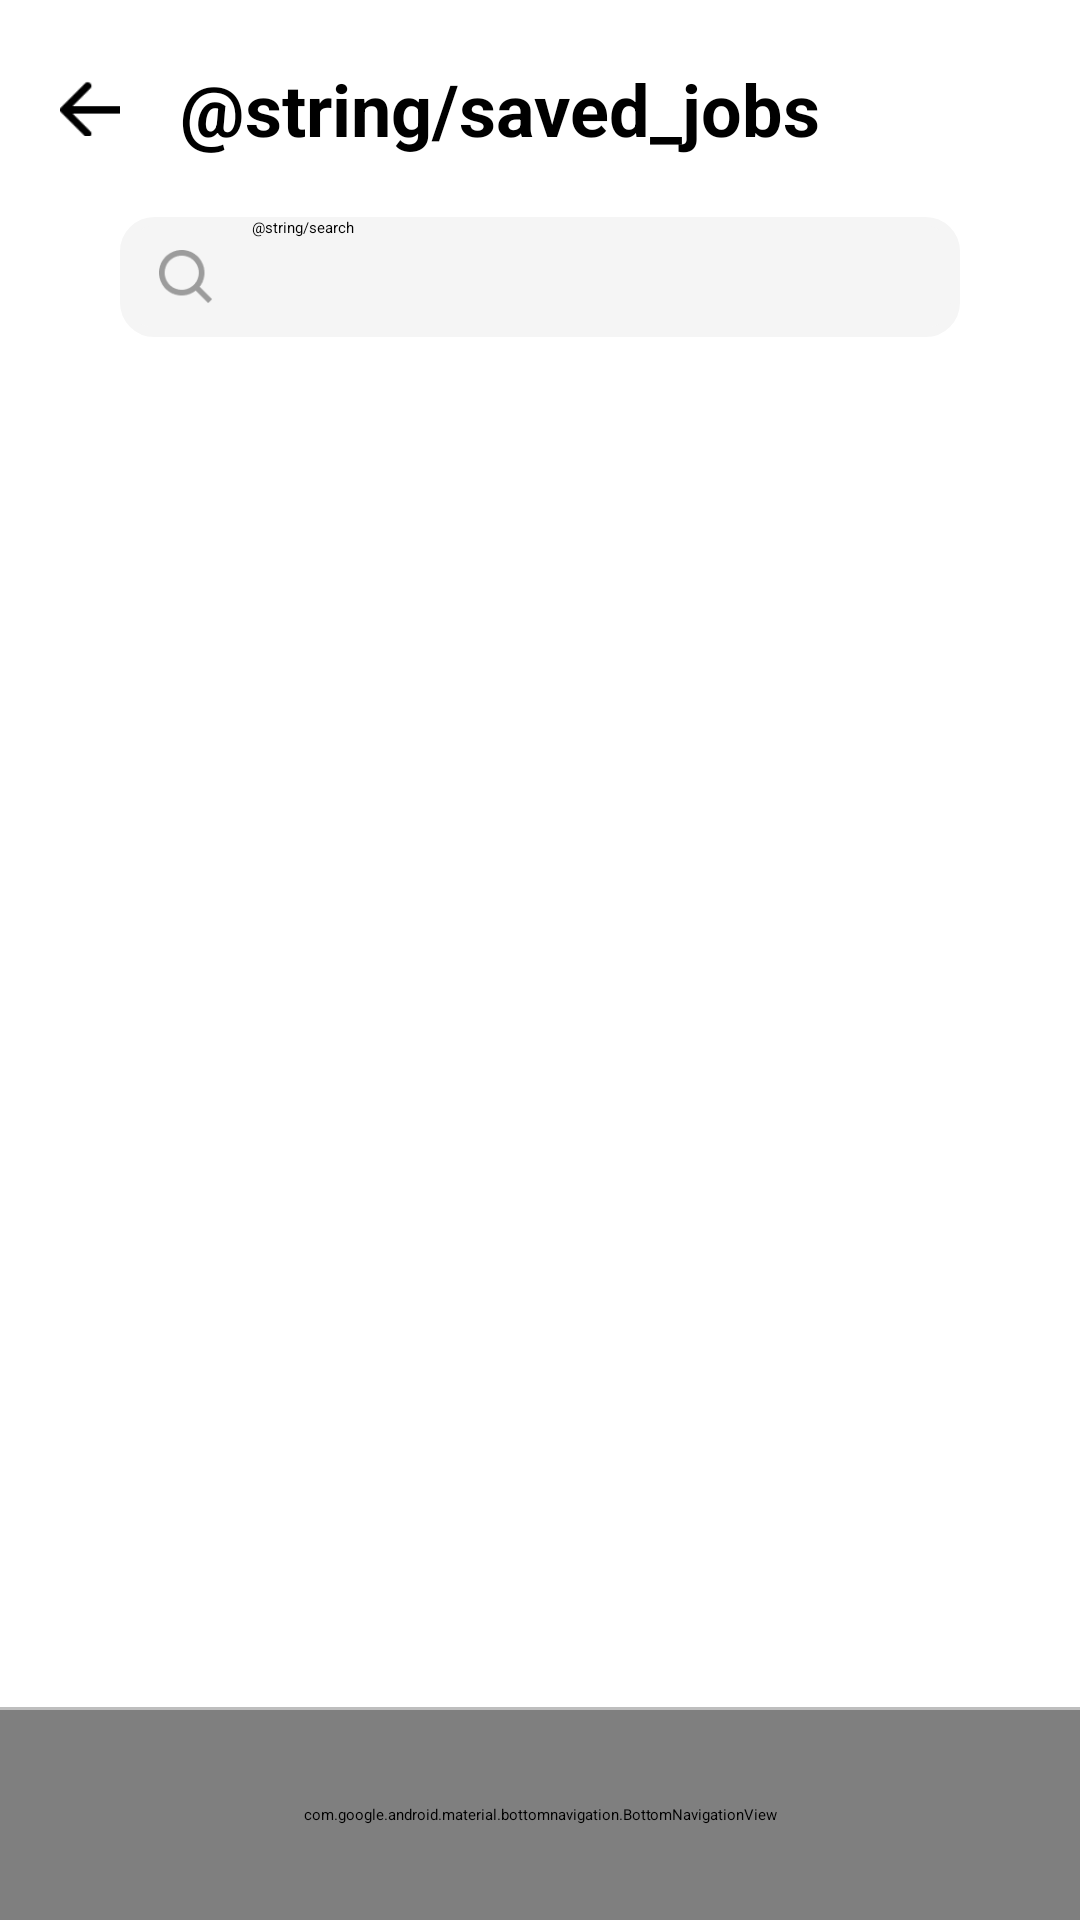

Locate icon controls on the screen. Image size 1080×1920, boxes as [x1=x1, y1=y1, x2=x2, y2=y2].
back arrow: [x1=60, y1=82, x2=120, y2=136]
search: [x1=159, y1=250, x2=212, y2=303]
